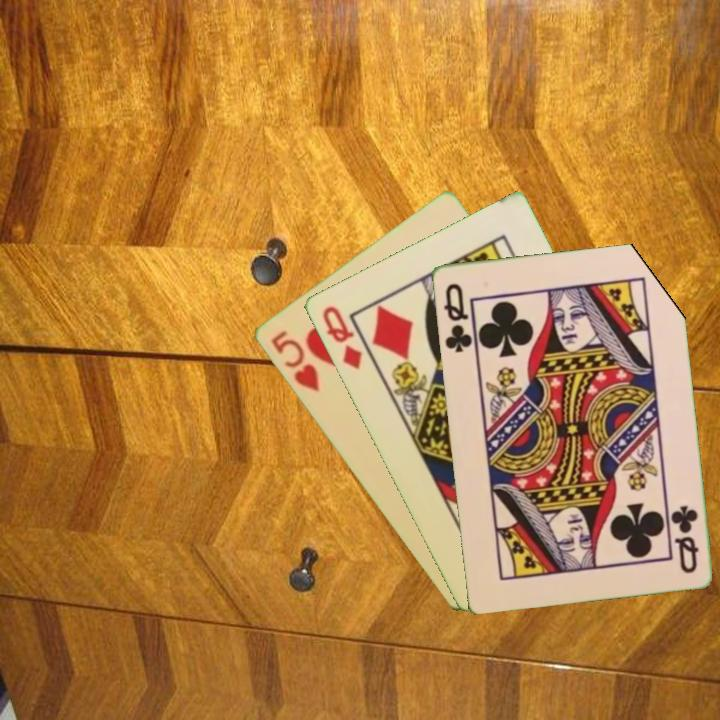5h: (266, 326, 322, 394)
Qc: (439, 279, 478, 355), (667, 502, 701, 576)
Qd: (318, 302, 365, 372)
